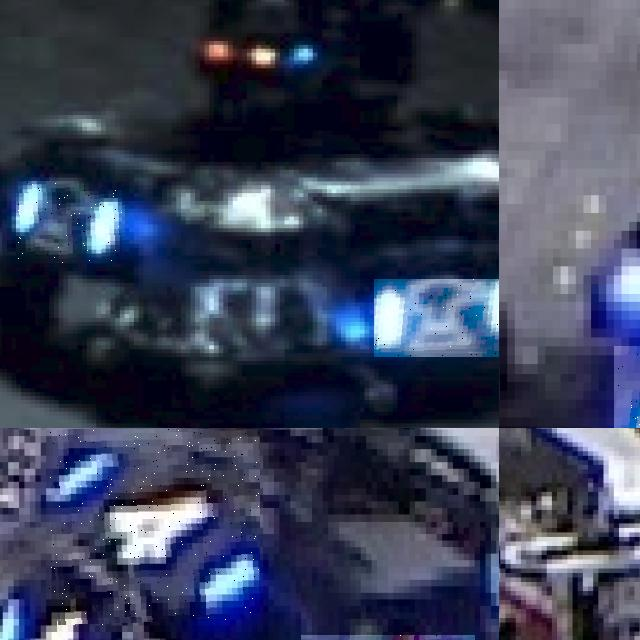B4: (49, 430, 260, 626)
Bs: (373, 279, 499, 357), (16, 182, 124, 264)
